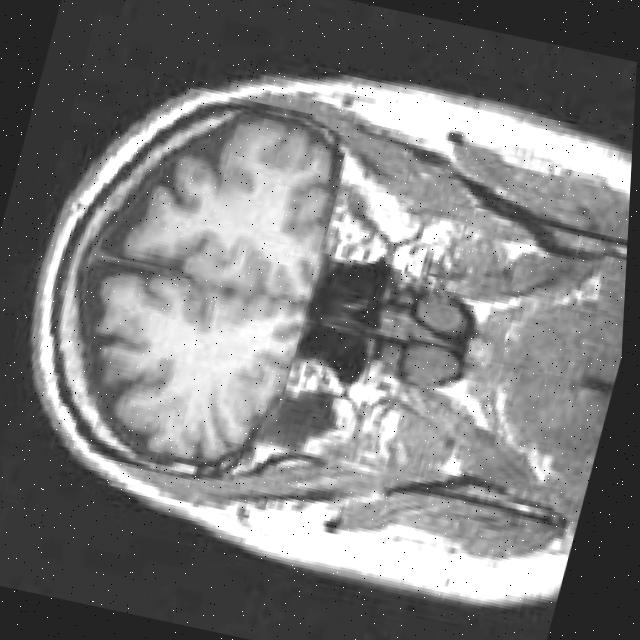NoTumor: (0, 33, 375, 530)
